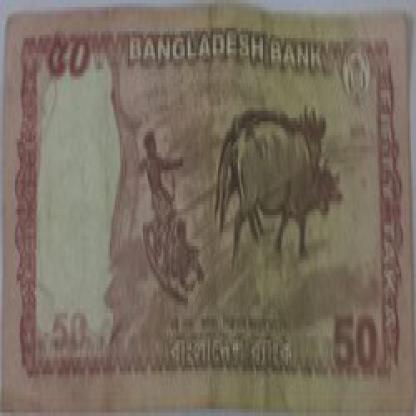Fifty taka: (316, 291, 406, 413), (48, 38, 95, 101)
